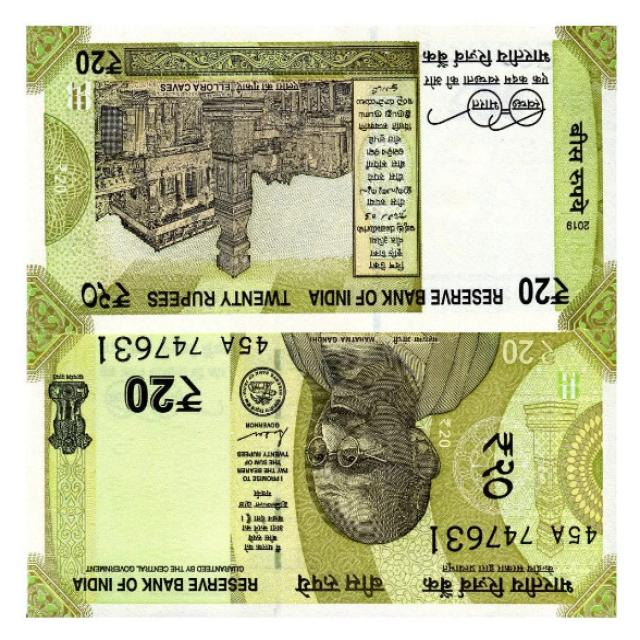20IndianRupees: (26, 27, 625, 311)
